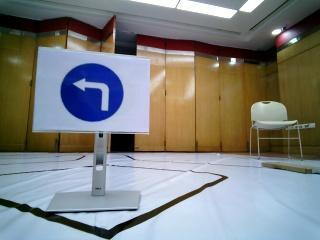left: (41, 53, 136, 122)
